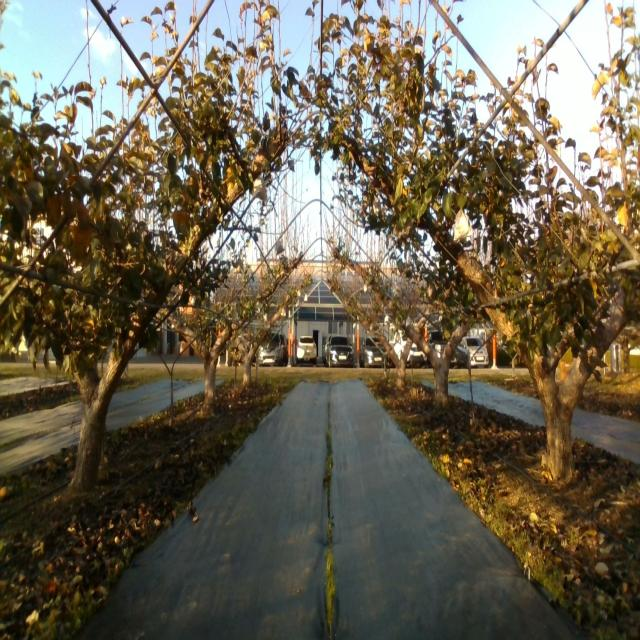pearbags: (453, 208, 473, 244), (253, 178, 267, 202)
